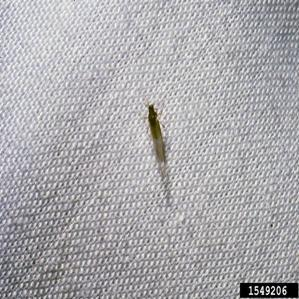Green peach aphid: (134, 94, 188, 174)
